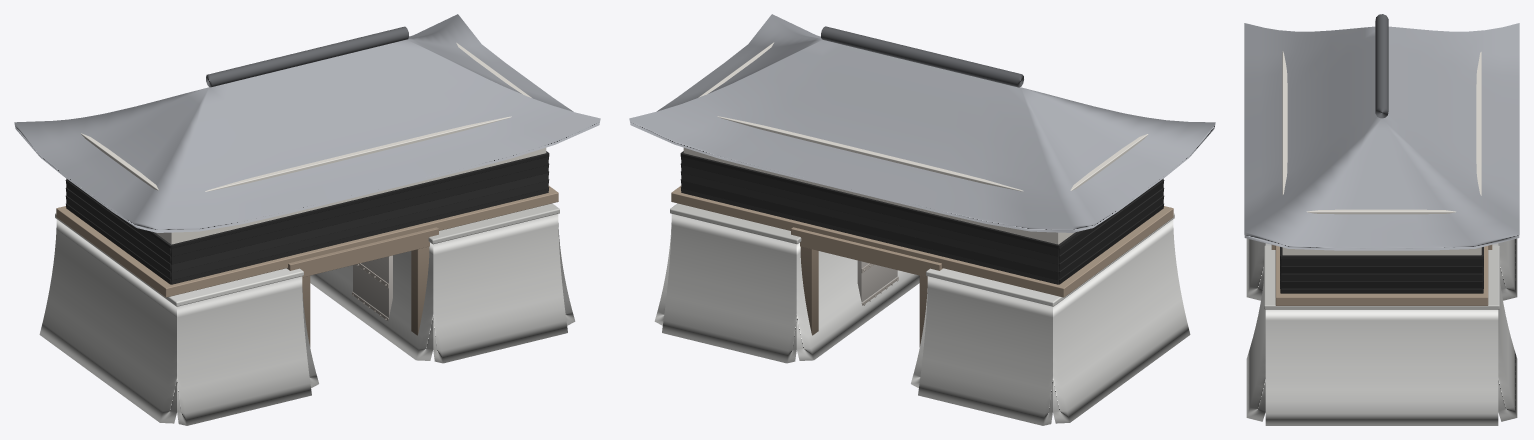
The model's file is castle_gate.glb.
3 renders of one model, left to right at view 1: azimuth 30°, elevation 25°; view 2: azimuth 150°, elevation 25°; view 3: azimuth 270°, elevation 25°, orthographic. The views are drawn at different scales.
Parts seen in each view (by area): view 1: castle_gate; view 2: castle_gate; view 3: castle_gate.
Boxes of the visible parts, <box> form: castle_gate: <box>14,14,600,425</box>; castle_gate: <box>629,14,1215,425</box>; castle_gate: <box>1244,14,1519,425</box>.
Size of the model in its own units: 14.9 by 9.03 by 8.3.
